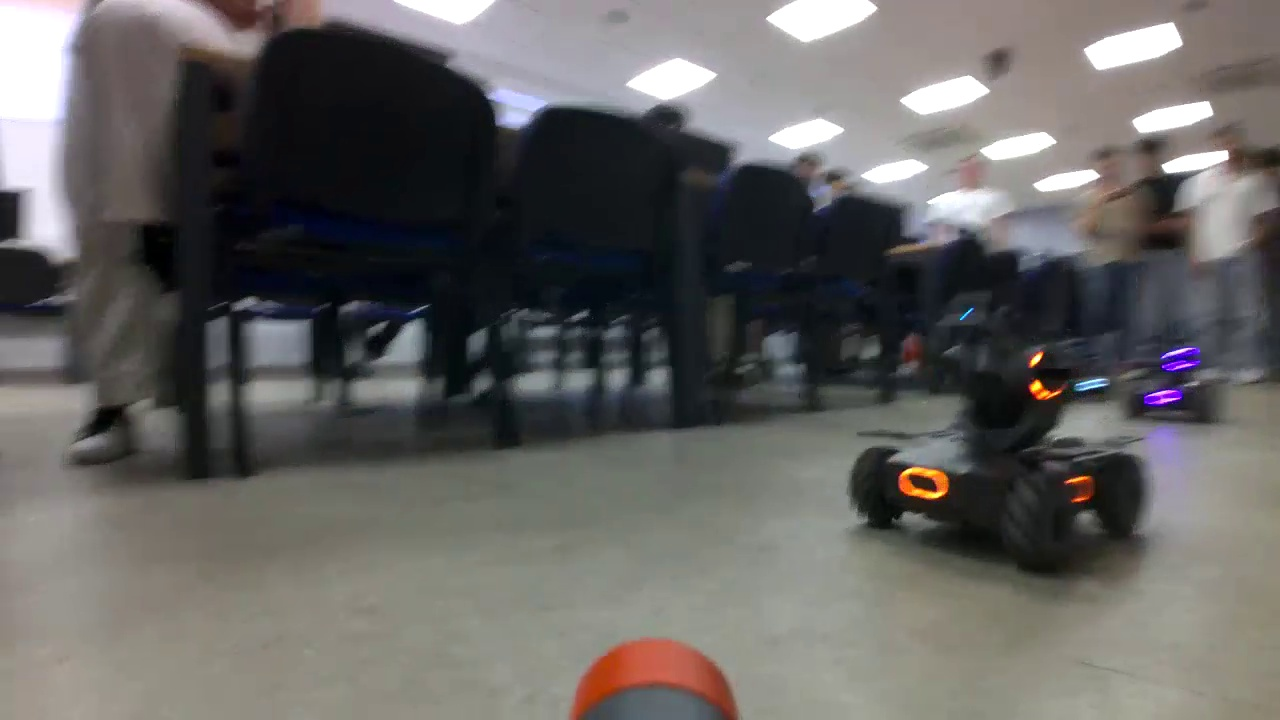robot: (845, 292, 1149, 578), (1140, 345, 1226, 426)
